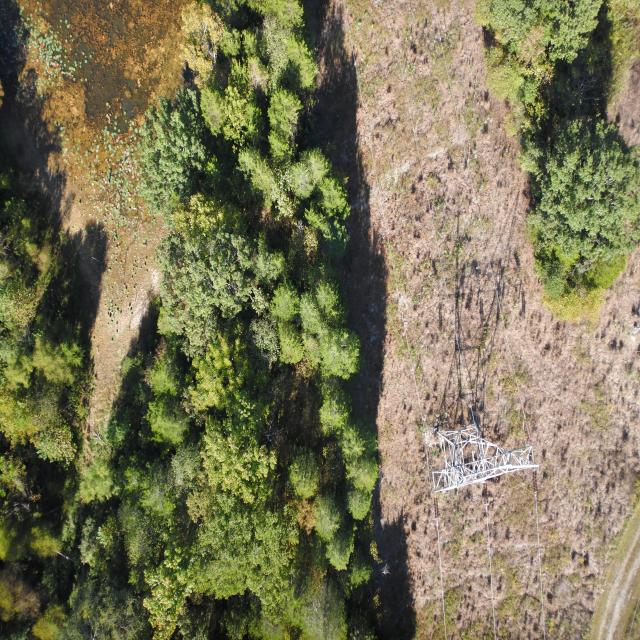Area of Interest: (4, 7, 370, 633), (509, 25, 634, 309)
